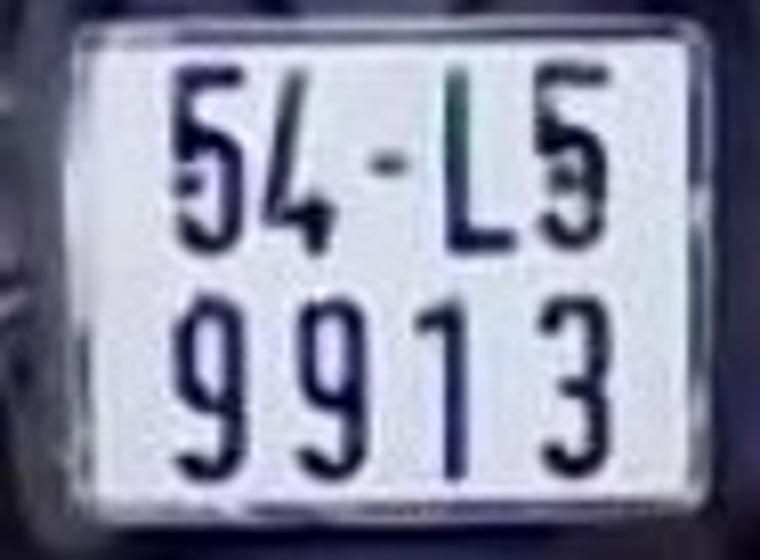-: (358, 146, 409, 179)
1: (404, 293, 472, 491)
4: (259, 61, 341, 259)
5: (523, 60, 614, 259), (166, 60, 246, 260)
9: (288, 295, 375, 480), (171, 289, 243, 480)
L: (437, 60, 521, 257)
